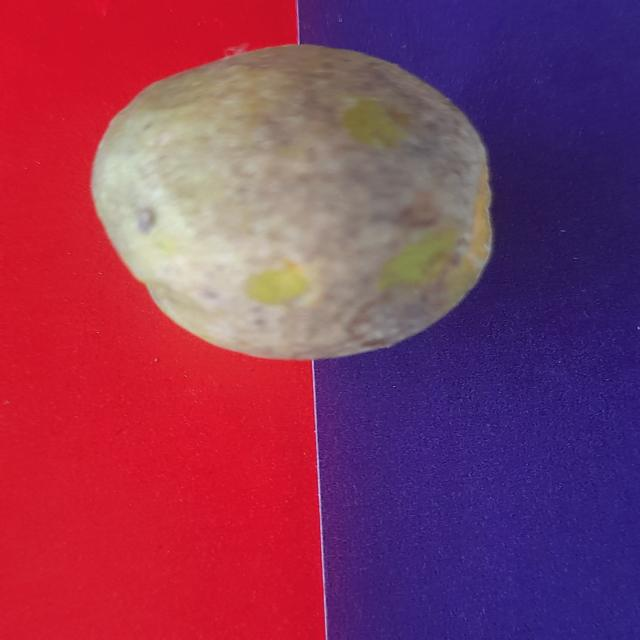thrips: (107, 32, 484, 378)
